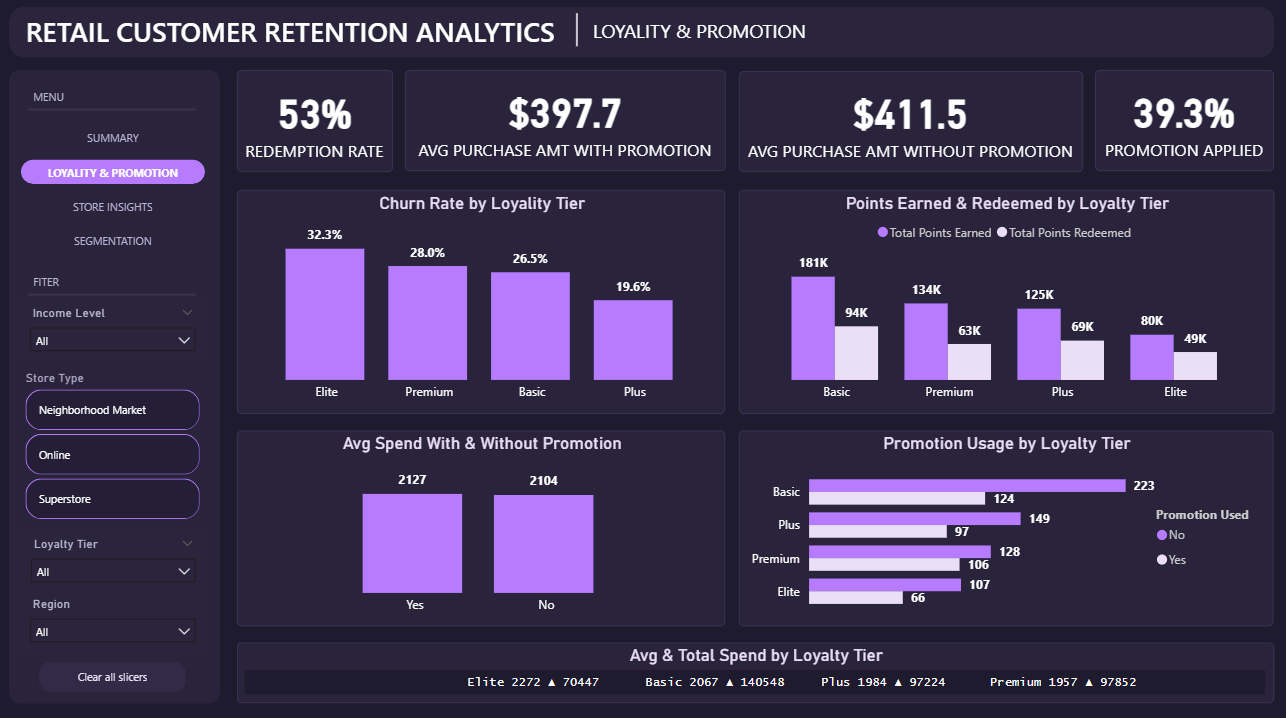

The page's visual inventory and layout, read from the dashboard file:
{"tool":"powerbi","page":{"name":"LOYALITY & PROMOTION","canvas":[1280,720],"ordinal":1},"visuals":[{"type":"card","fields":{"Values":["All_Measures (DAX).Avg Purchase Amt without Promotion"]},"box":[735.6,74.8,340.4,100.1],"z":0},{"type":"card","fields":{"Values":["All_Measures (DAX).Avg Purchase Amt with Promotion"]},"box":[405.7,73.8,317.2,100.1],"z":1000},{"type":"shape","box":[14.9,73.7,208.2,625.8],"z":2000},{"type":"advancedSlicerVisual","fields":{"Values":["Store_Locations.Store_Type"]},"box":[26.7,370.5,182.6,152.7],"z":3000},{"type":"slicer","fields":{"Values":["Customer_Demographics.Region"]},"box":[25.6,589.5,183.7,57.7],"z":4000},{"type":"slicer","fields":{"Values":["Loyalty_Program.Loyalty_Tier"]},"box":[26.7,530.7,182.6,58.7],"z":5000},{"type":"slicer","fields":{"Values":["Customer_Demographics.Income_Level"]},"box":[25.6,302.2,183.7,57.7],"z":6000},{"type":"actionButton","box":[44.8,657.8,145.2,29.9],"z":7000},{"type":"pageNavigator","box":[26.7,129.2,182.6,126],"z":8000},{"type":"shape","box":[34.2,289.4,165.5,12.8],"z":9000},{"type":"shape","box":[34.2,106.8,165.5,12.8],"z":10000},{"type":"textbox","box":[34.2,85.4,50.2,27.8],"z":11000},{"type":"textbox","box":[34.2,268,38.4,27.8],"z":12000},{"type":"shape","box":[14.9,11.7,1249.4,50.2],"z":13000},{"type":"shape","box":[569.1,18.2,12.2,32.8],"z":14000},{"type":"textbox","box":[26.8,12.2,542.3,46.2],"z":15000},{"type":"textbox","box":[586.2,17.1,231.7,37.4],"z":16000},{"type":"columnChart","title":"Churn Rate by Loyality Tier","fields":{"Category":["Loyalty_Program.Loyalty_Tier"],"Y":["All_Measures (DAX).Customer Churn Rate (%)"]},"box":[240.3,191.8,482.7,221.3],"z":17000},{"type":"clusteredColumnChart","title":"Points Earned & Redeemed by Loyalty Tier","fields":{"Category":["Loyalty_Program.Loyalty_Tier"],"Y":["Sum(Loyalty_Program.Points_Earned)","Sum(Loyalty_Program.Points_Redeemed)"]},"box":[735.6,191.8,529,221.3],"z":18000},{"type":"clusteredColumnChart","title":"Avg Spend With & Without Promotion","fields":{"Y":["Avg(Customer_Demographics.Total Amount Spent)"],"Category":["Transactions - Store (Merged).Promotion_Applied"]},"box":[240.3,430,482.7,193.9],"z":19000},{"type":"card","fields":{"Values":["All_Measures (DAX).% Transaction with Promotion Applied"]},"box":[1087.6,73.8,177,100.1],"z":20000},{"type":"clusteredBarChart","title":"Promotion Usage by Loyalty Tier","fields":{"Category":["Loyalty_Program.Loyalty_Tier"],"Y":["CountNonNull(Transactions - Store (Merged).Transaction_ID)"],"Series":["Transactions - Store (Merged).Promotion_Applied"]},"box":[735.6,430,528,193.9],"z":21000},{"type":"ScrollingTextVisual1448795304508","title":"Avg & Total Spend by Loyalty Tier ","fields":{"Measure Absolute":["Avg(Customer_Demographics.Total Amount Spent)1"],"Category":["Loyalty_Program.Loyalty_Tier"],"Measure Deviation":["Sum(Customer_Demographics.Total Amount Spent)"]},"box":[239.8,639.2,1023.9,59.7],"z":22000},{"type":"card","title":"CHURN RATE","fields":{"Values":["B Extra Measures(DAX) for Deep Analysis.Redemption Rate"]},"box":[240.3,73.8,153.9,101.2],"z":23000}]}

Visuals, with their boxes in screenshot pixels (x1, y1, x2, y2), scaled from the page's 1280x720 canvas onto the 1286x718 screenshot:
card - All_Measures (DAX).Avg Purchase Amt without Promotion: 739:75:1081:174
card - All_Measures (DAX).Avg Purchase Amt with Promotion: 408:74:726:173
shape: 15:73:224:698
advancedSlicerVisual - Store_Locations.Store_Type: 27:369:210:522
slicer - Customer_Demographics.Region: 26:588:210:645
slicer - Loyalty_Program.Loyalty_Tier: 27:529:210:588
slicer - Customer_Demographics.Income_Level: 26:301:210:359
actionButton: 45:656:191:686
pageNavigator: 27:129:210:254
shape: 34:289:201:301
shape: 34:107:201:119
textbox: 34:85:85:113
textbox: 34:267:73:295
shape: 15:12:1270:62
shape: 572:18:584:51
textbox: 27:12:572:58
textbox: 589:17:822:54
"Churn Rate by Loyality Tier" columnChart: 241:191:726:412
"Points Earned & Redeemed by Loyalty Tier" clusteredColumnChart: 739:191:1271:412
"Avg Spend With & Without Promotion" clusteredColumnChart: 241:429:726:622
card - All_Measures (DAX).% Transaction with Promotion Applied: 1093:74:1271:173
"Promotion Usage by Loyalty Tier" clusteredBarChart: 739:429:1270:622
"Avg & Total Spend by Loyalty Tier " ScrollingTextVisual1448795304508: 241:637:1270:697
"CHURN RATE" card: 241:74:396:175
